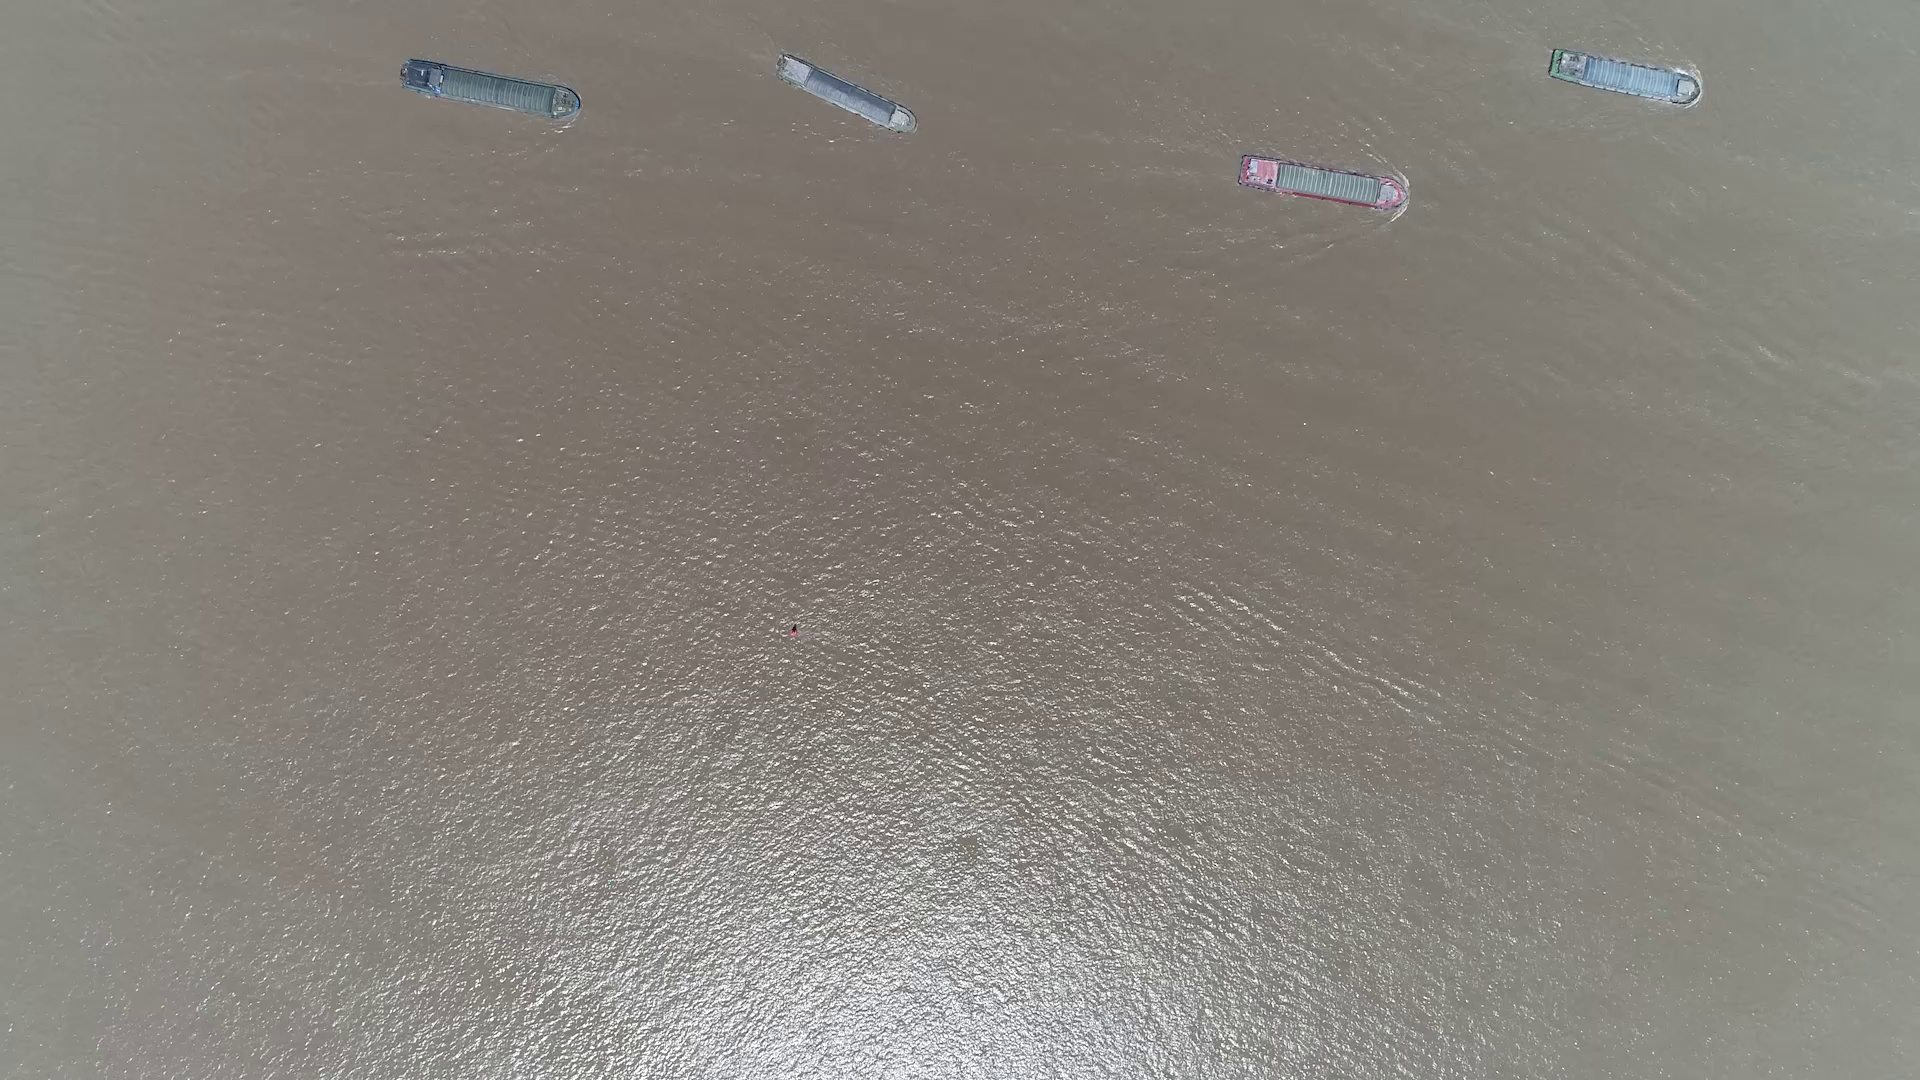ship: (400, 61, 582, 123), (775, 59, 916, 133), (1237, 154, 1410, 211), (1545, 51, 1702, 103)
